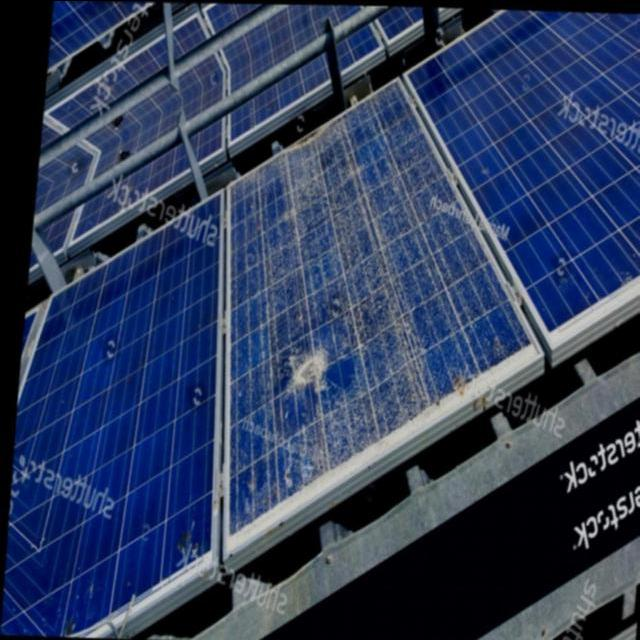cracked: (203, 78, 537, 547)
soiled: (0, 504, 206, 640)
